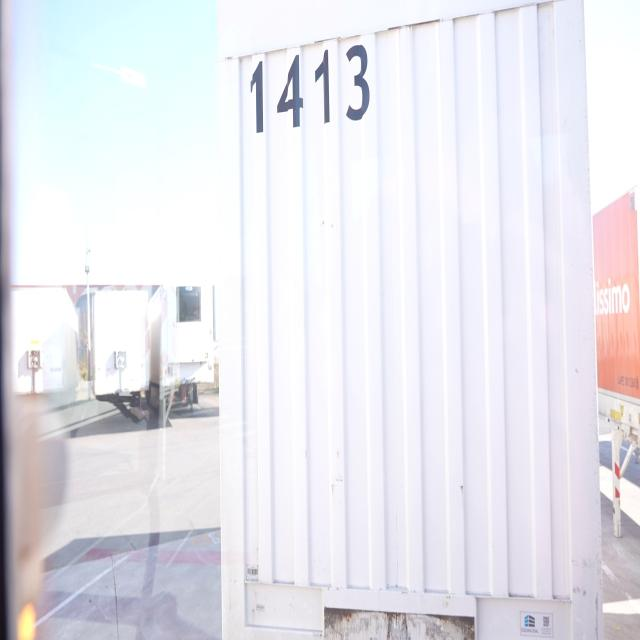Code: (243, 42, 372, 132)
